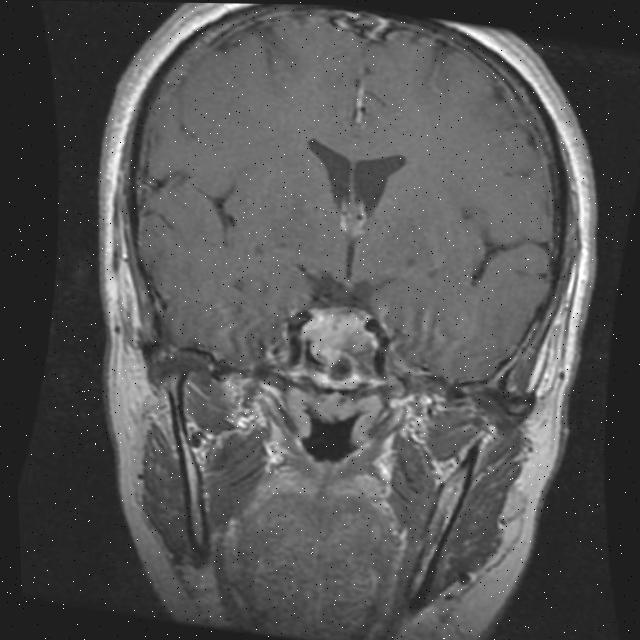Pituitary: (292, 297, 386, 393)
